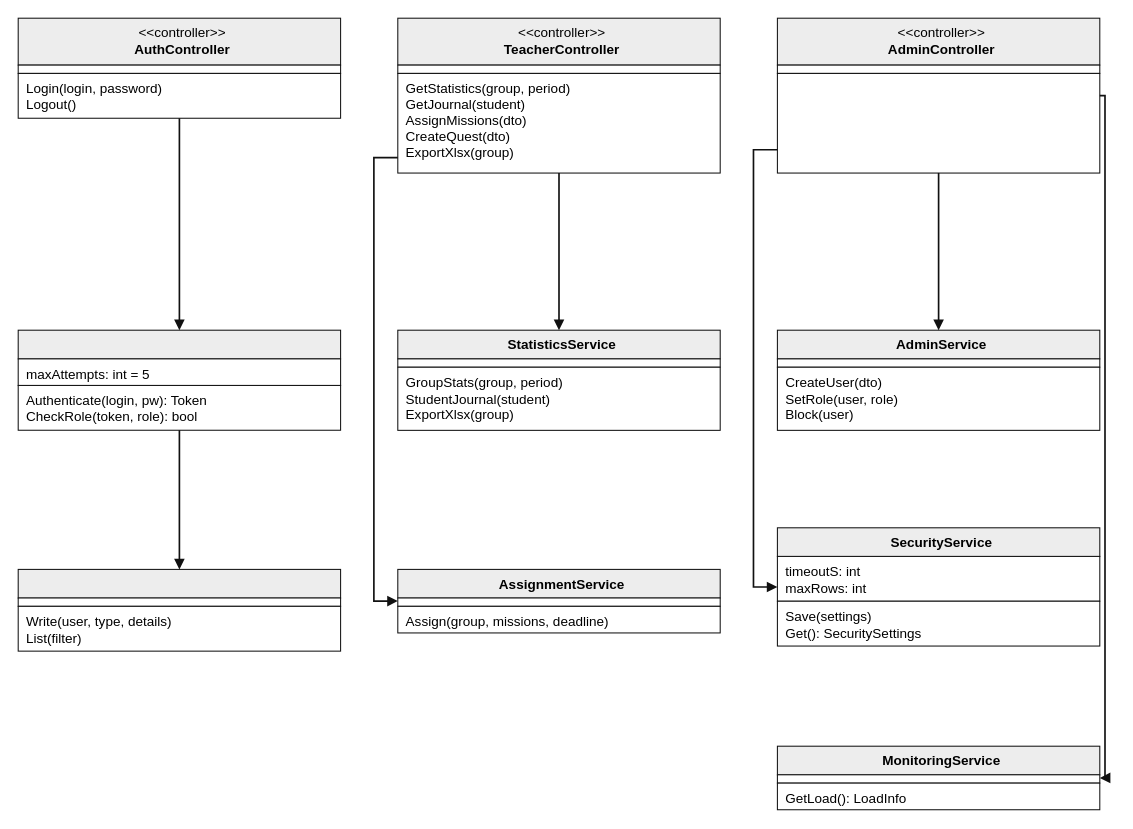
Some shapes in this 1133 by 829 pixel diagram are drawn without their labels. The shapes that lost their labels are listed below. From the top down, each one's box as (x1, y1, x2, y2) in pixels, then its label:
(776, 72, 1100, 173): CreateUser(dto) SetRole(user, role) Block(user) SaveSettings(dto) GetLoad()
(17, 329, 341, 359): AuthService
(17, 568, 341, 598): EventLogService
